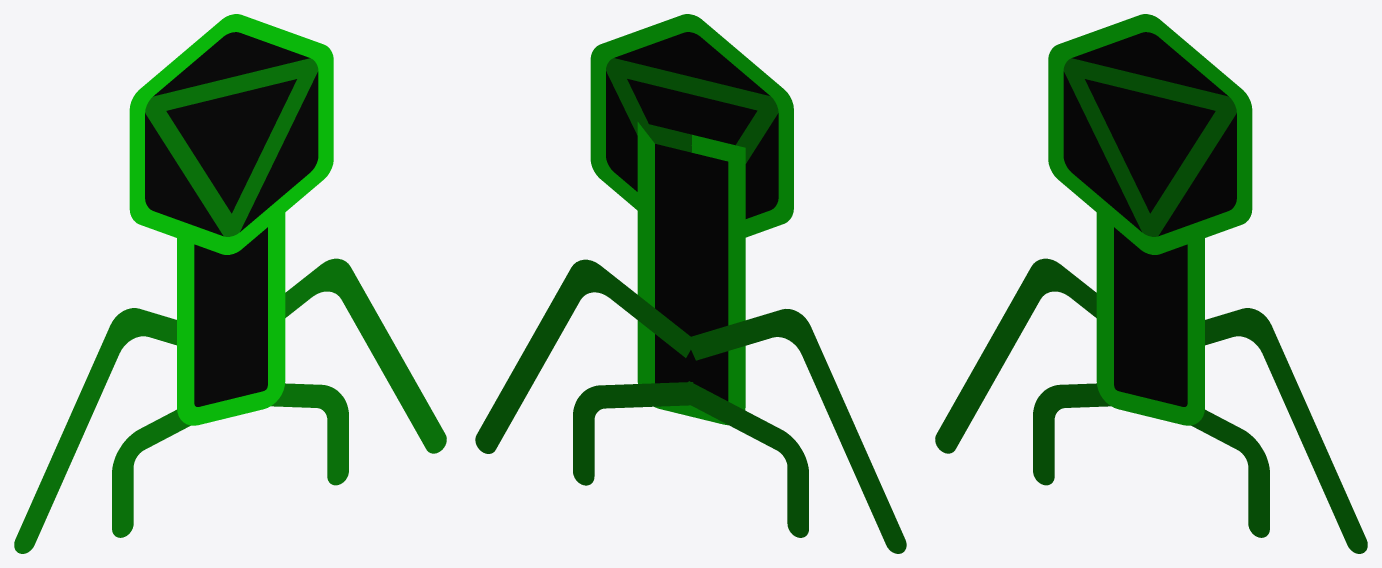
The model's file is Virus.fbx.
The picture shows the model from 3 angles, left to right: view 1: azimuth 30°, elevation 25°; view 2: azimuth 150°, elevation 25°; view 3: azimuth 330°, elevation 25°; orthographic projection.
Visible parts, largest first — view 1: VIRUS; view 2: VIRUS; view 3: VIRUS.
Boxes of the visible parts, x1,y1,x2,y2 form: VIRUS: (14, 14, 446, 553); VIRUS: (475, 14, 906, 553); VIRUS: (935, 14, 1367, 553).
Size of the model in its own units: 99.94 by 110 by 0.5001.
Materials: 1 (1 with a texture image).
